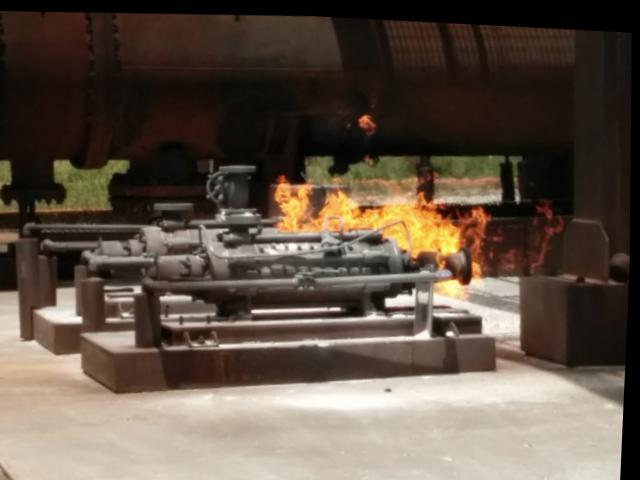fire: (270, 151, 509, 296)
